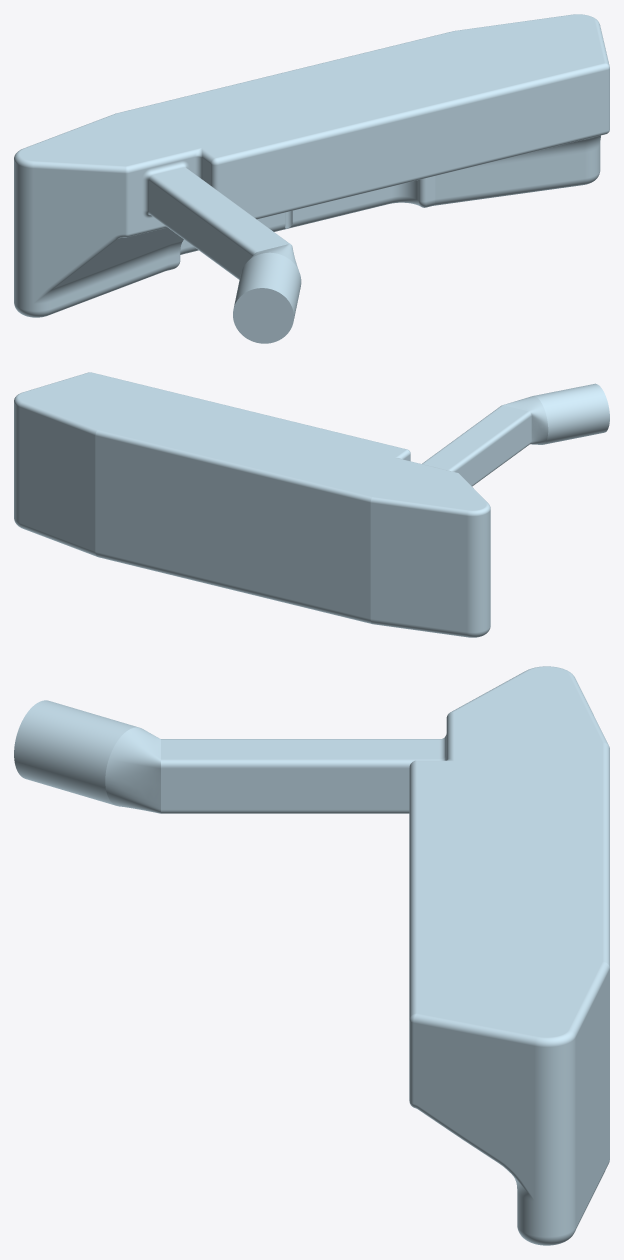
File: adfasd.gltf
The picture shows the model from 3 angles, top to bottom: view 1: azimuth 30°, elevation 25°; view 2: azimuth 150°, elevation 25°; view 3: azimuth 270°, elevation 25°; orthographic projection. The views are drawn at different scales.
Parts seen in each view (by area): view 1: Part 1; view 2: Part 1; view 3: Part 1.
Boxes of the visible parts, x1,y1,x2,y2 form: Part 1: (14,14,609,343); Part 1: (14,372,609,637); Part 1: (14,666,609,1245).
Size of the model in its own units: 0.12 by 0.0312 by 0.0803.
